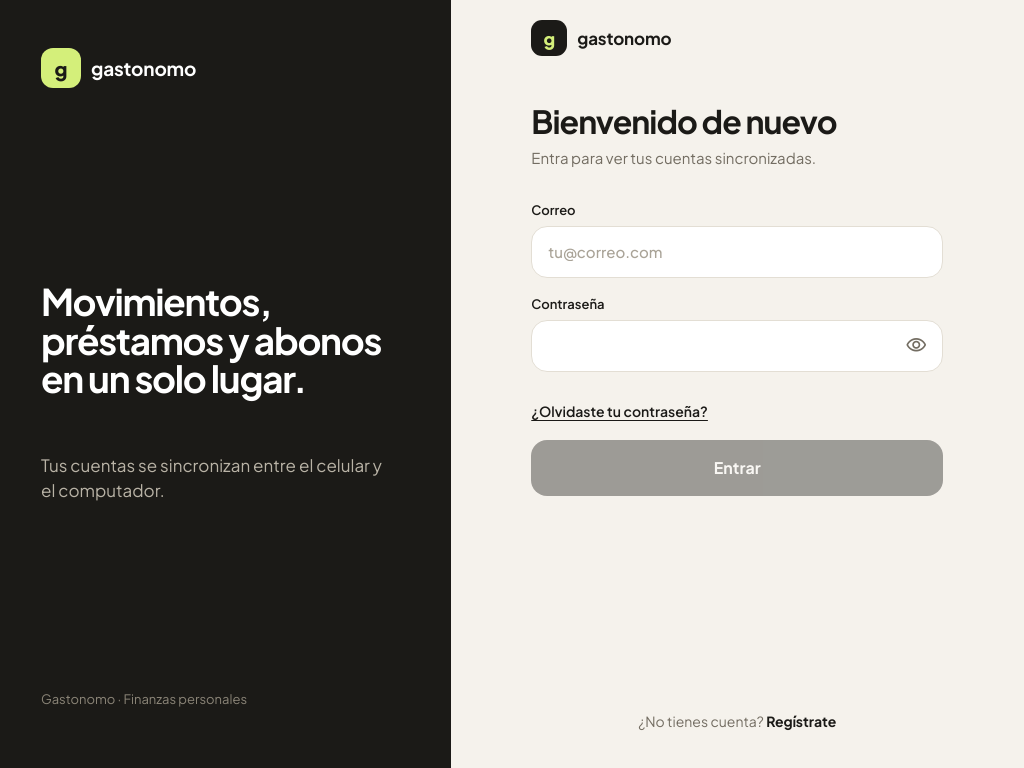
LoginScreen › un 401 se cuenta sin decir cual de los dos campos fallo
The image size is (1024, 768).
Type "camilo@correo.com" into the field labelled "Correo" at (737, 252), box x1=531 y1=226 x2=943 y2=278
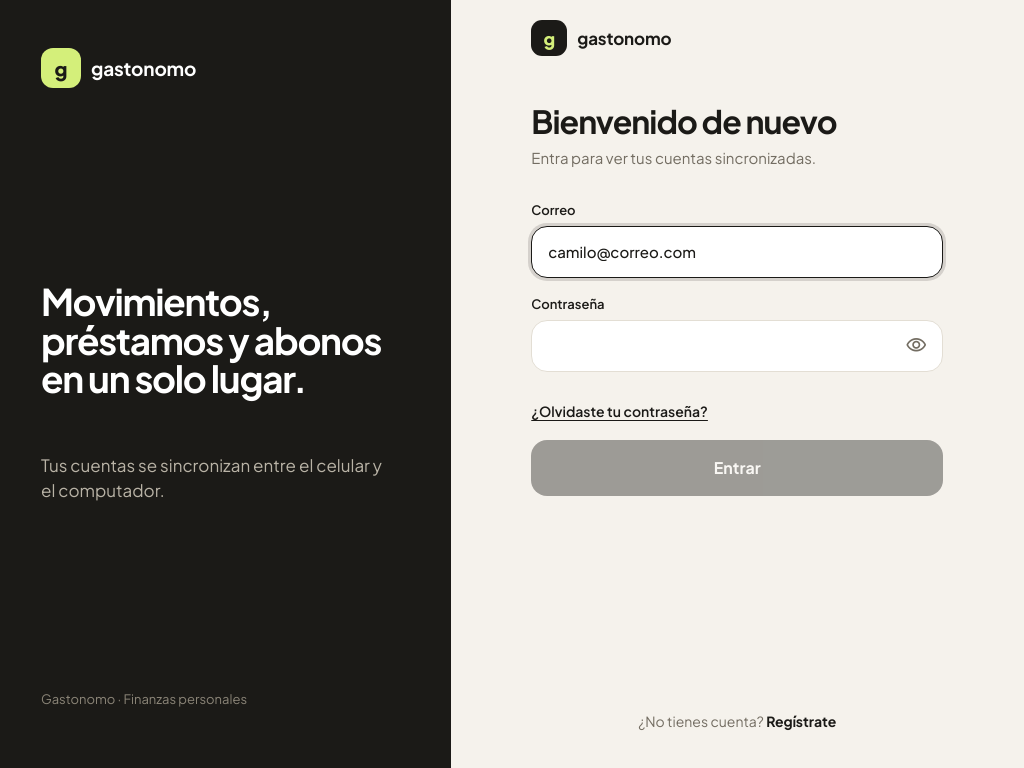
Type "mal" into the password field labelled "Contraseña" at (737, 346), box x1=531 y1=320 x2=943 y2=372
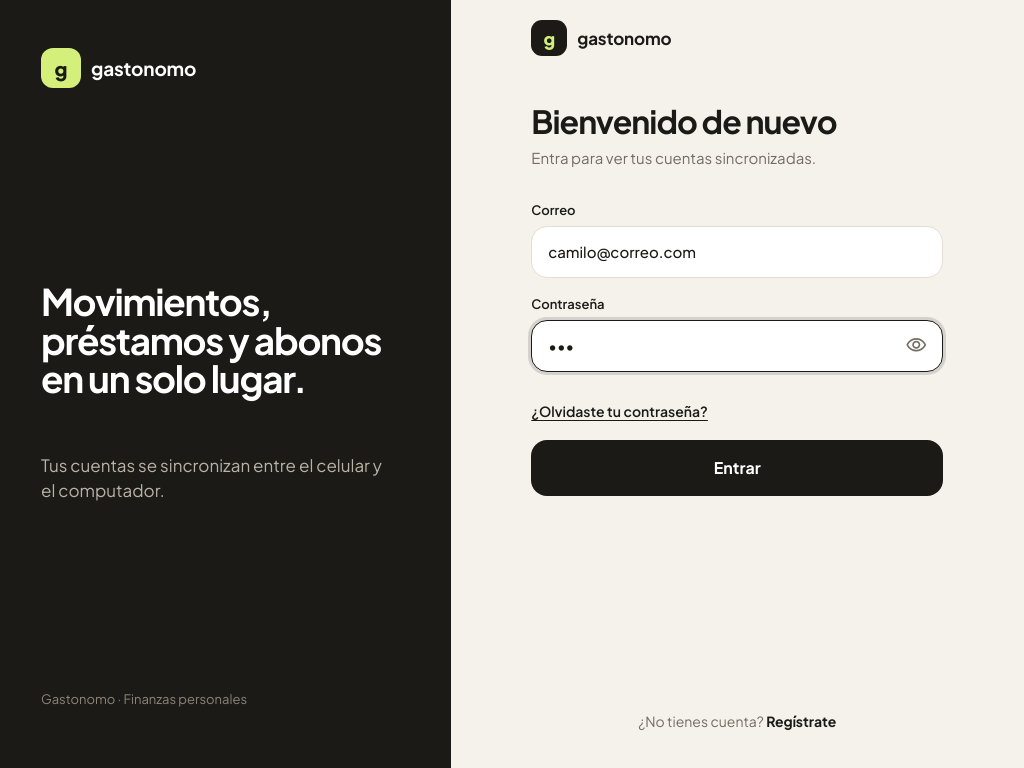
Click the button "Entrar" at (737, 468), box x1=531 y1=440 x2=943 y2=496
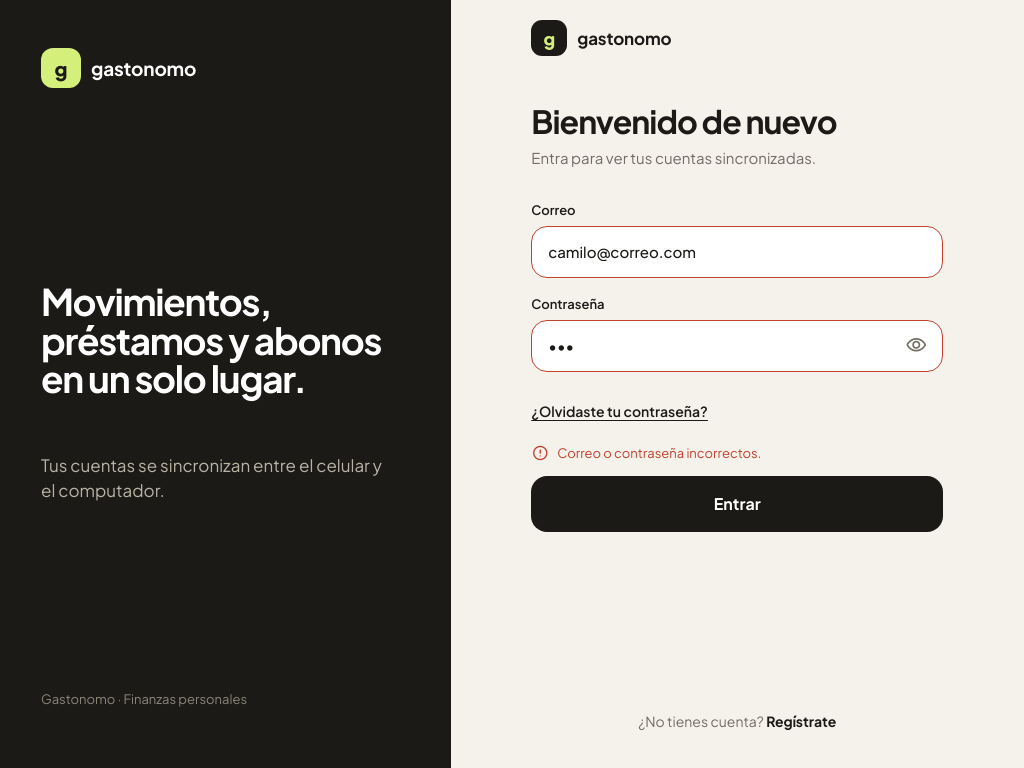
Now the message reads "Correo o contraseña incorrectos.", box x1=557 y1=445 x2=761 y2=461
